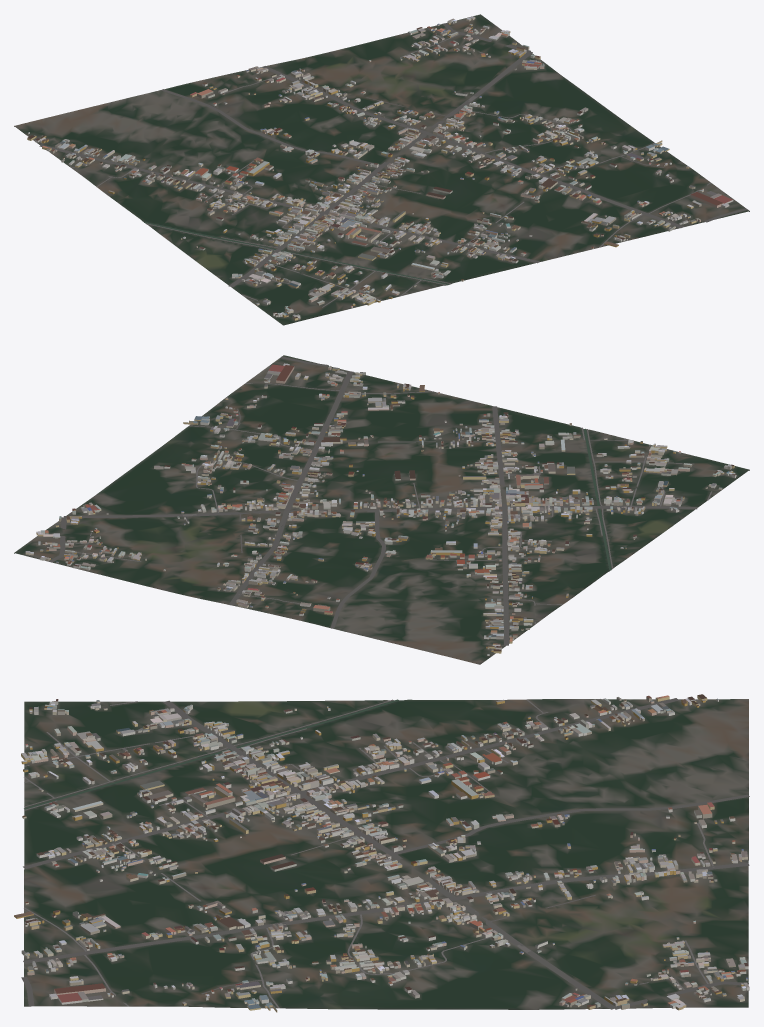
The picture shows the model from 3 angles, top to bottom: view 1: azimuth 30°, elevation 25°; view 2: azimuth 150°, elevation 25°; view 3: azimuth 270°, elevation 25°; orthographic projection. The views are drawn at different scales.
Visible parts, largest first — view 1: ground, buildings, roads; view 2: ground, buildings, roads; view 3: ground, buildings, roads, water.
Boxes of the visible parts, box(x1,y1,x2,y2) form: ground: box(14, 14, 749, 325); buildings: box(27, 16, 733, 320); roads: box(39, 23, 747, 307); ground: box(14, 355, 749, 664); buildings: box(25, 363, 736, 655); roads: box(48, 356, 712, 645); ground: box(24, 699, 748, 1009); buildings: box(14, 694, 749, 1012); roads: box(21, 698, 749, 1009); water: box(24, 699, 399, 809).
Size of the model in its own units: 1429 by 24.19 by 1422.
